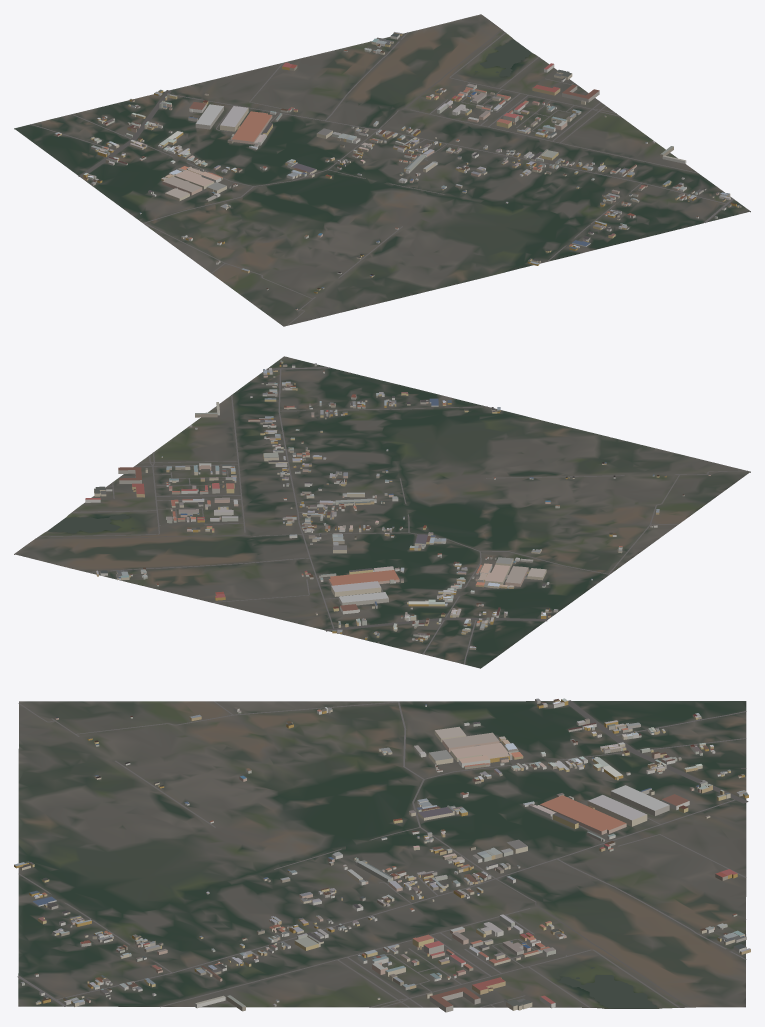
The picture shows the model from 3 angles, top to bottom: view 1: azimuth 30°, elevation 25°; view 2: azimuth 150°, elevation 25°; view 3: azimuth 270°, elevation 25°; orthographic projection. The views are drawn at different scales.
Parts seen in each view (by area): view 1: ground, buildings, roads, water; view 2: ground, buildings, roads, water; view 3: ground, buildings, roads, water.
Part boxes in pixels (x1,y1,x2,y2): ground: (14,14,750,326); buildings: (54,32,741,310); roads: (30,29,733,325); water: (475,39,531,76); ground: (14,356,750,668); buildings: (85,360,710,649); roads: (35,367,747,664); water: (47,514,133,533); ground: (18,701,746,1008); buildings: (14,698,750,1012); roads: (17,700,748,1007); water: (557,967,657,1008).
Bounding box in the file's own units: 1424 × 19.5 × 1419.
